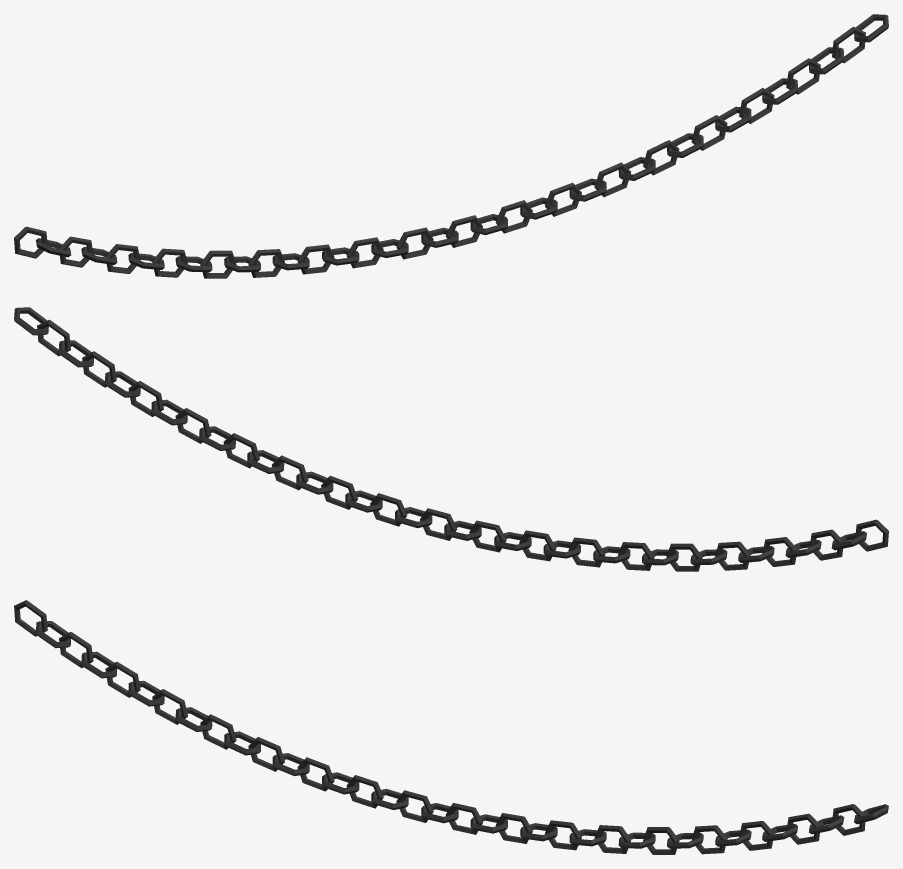
The model's file is Chain_02.fbx.
3 renders of one model, top to bottom at view 1: azimuth 30°, elevation 25°; view 2: azimuth 150°, elevation 25°; view 3: azimuth 330°, elevation 25°, orthographic.
Visible parts, largest first — view 1: Chain_02_LOD0; view 2: Chain_02_LOD0; view 3: Chain_02_LOD0.
Part boxes in pixels (left/top/right/bottom): Chain_02_LOD0: left=14, top=14, right=888, bottom=278; Chain_02_LOD0: left=14, top=307, right=888, bottom=571; Chain_02_LOD0: left=14, top=600, right=888, bottom=854.
Size of what is drawn, in the model's own units: 679 by 95.14 by 20.13.
